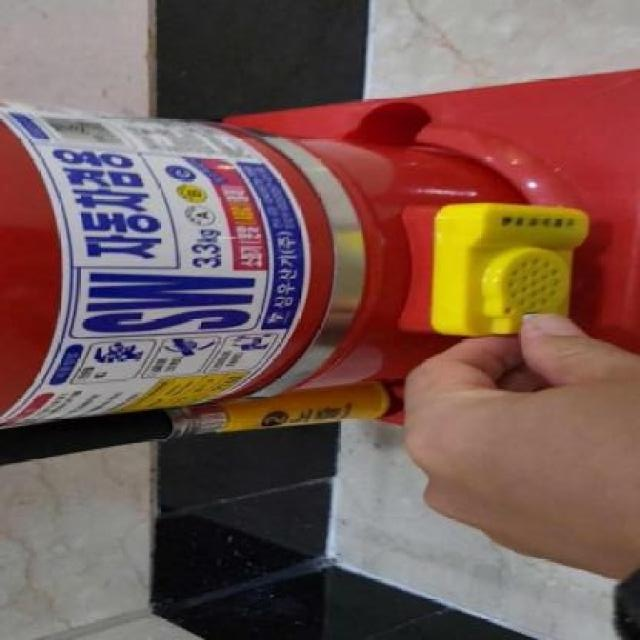fire extinguisher: (0, 98, 534, 467)
